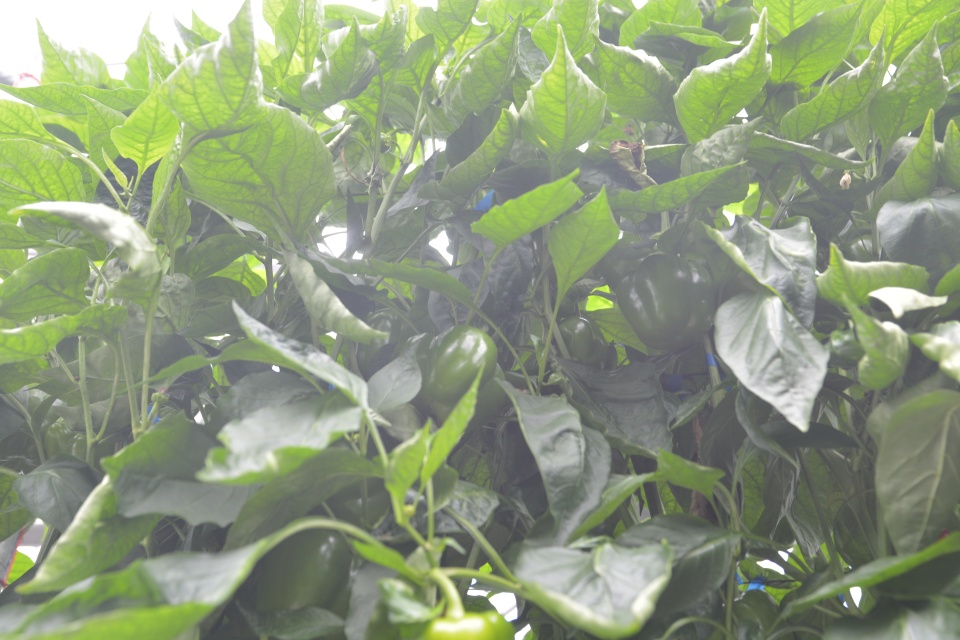flower: (838, 168, 852, 191)
fruit: (397, 322, 506, 433), (613, 250, 717, 353), (251, 528, 353, 618), (355, 294, 416, 382), (730, 587, 792, 640), (553, 313, 610, 366), (43, 415, 99, 461), (551, 281, 580, 317)
immature: (370, 131, 393, 155)
